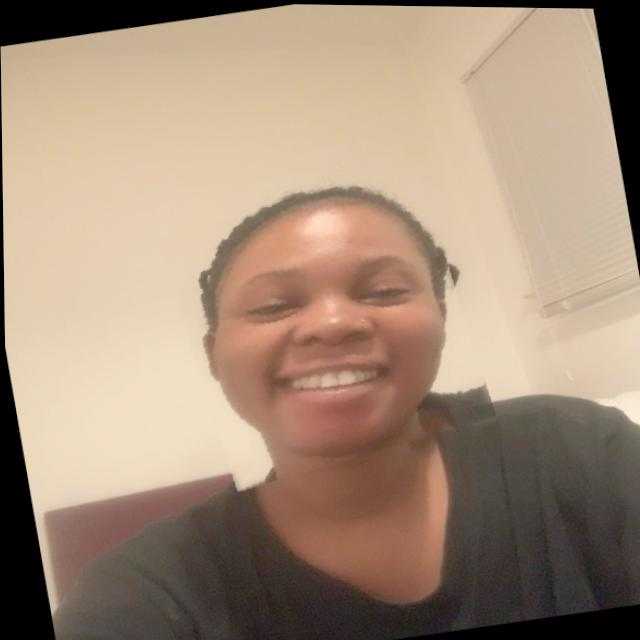happy: (160, 164, 493, 490)
